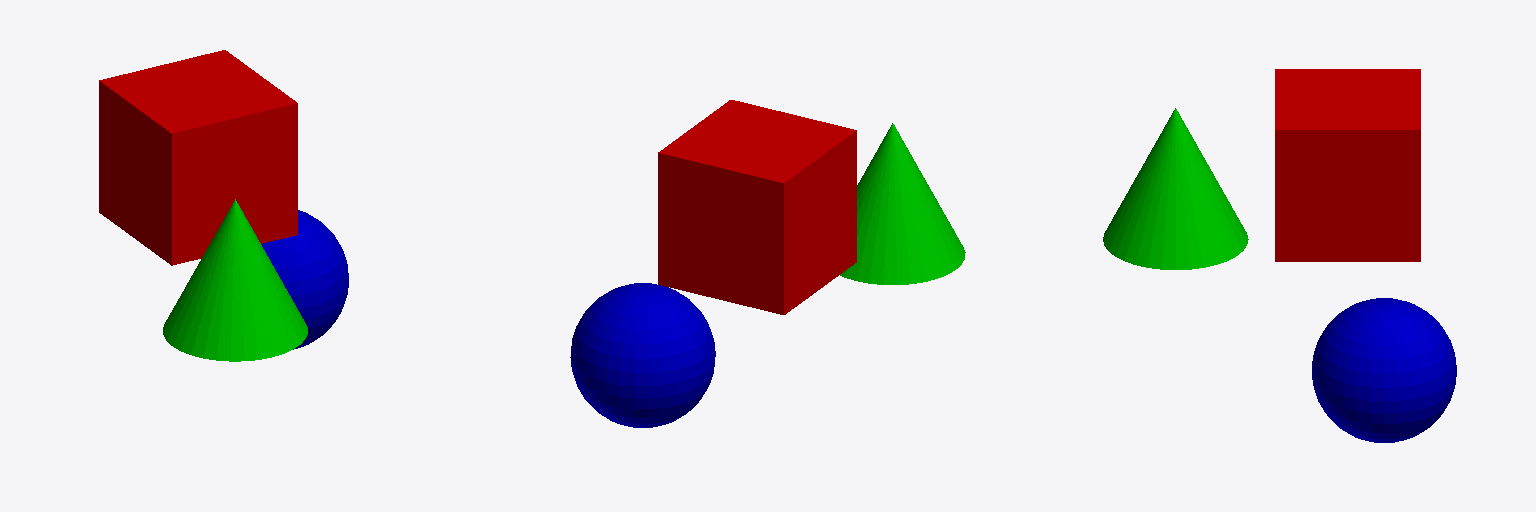
File: rod3.obj
3 renders of one model, left to right at view 1: azimuth 30°, elevation 25°; view 2: azimuth 150°, elevation 25°; view 3: azimuth 270°, elevation 25°, orthographic.
Parts seen in each view (by area): view 1: Cube, Cone, Sphere; view 2: Cube, Sphere, Cone; view 3: Cube, Sphere, Cone.
Boxes of the visible parts, x1,y1,x2,y2 form: Cube: [99, 50, 297, 265]; Cone: [163, 199, 307, 361]; Sphere: [261, 210, 348, 349]; Cube: [658, 100, 856, 314]; Sphere: [570, 283, 715, 427]; Cone: [840, 123, 965, 284]; Cube: [1275, 69, 1420, 261]; Sphere: [1312, 298, 1456, 442]; Cone: [1103, 108, 1248, 269].
Bounding box in the file's own units: 4.31 × 4.4 × 4.86.